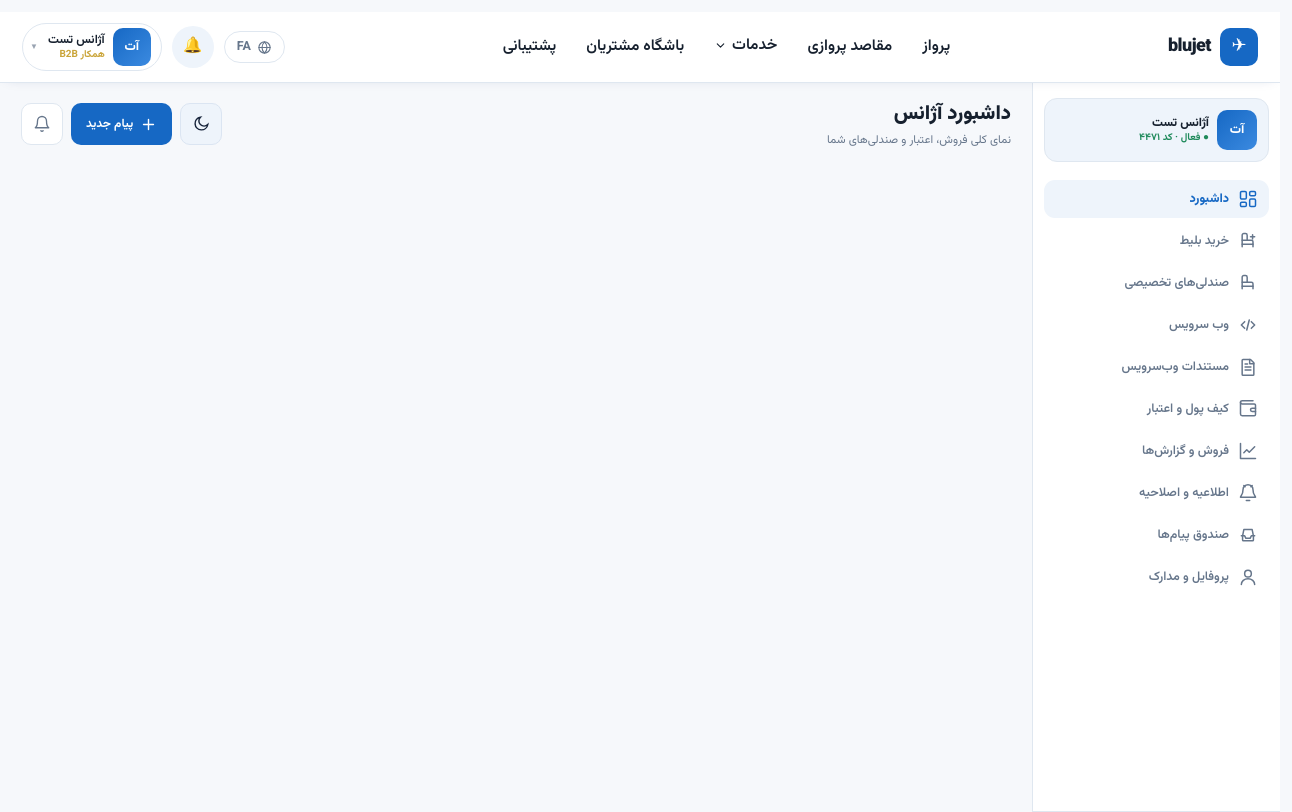
Scenario: AgencyPortalShell logout › shows the real agency identity, credit, and reference shortcuts in the profile menu
This screenshot has width=1292, height=812.
Click the element with test id "agency-user-menu-toggle" at (92, 47), box [22, 23, 162, 71]
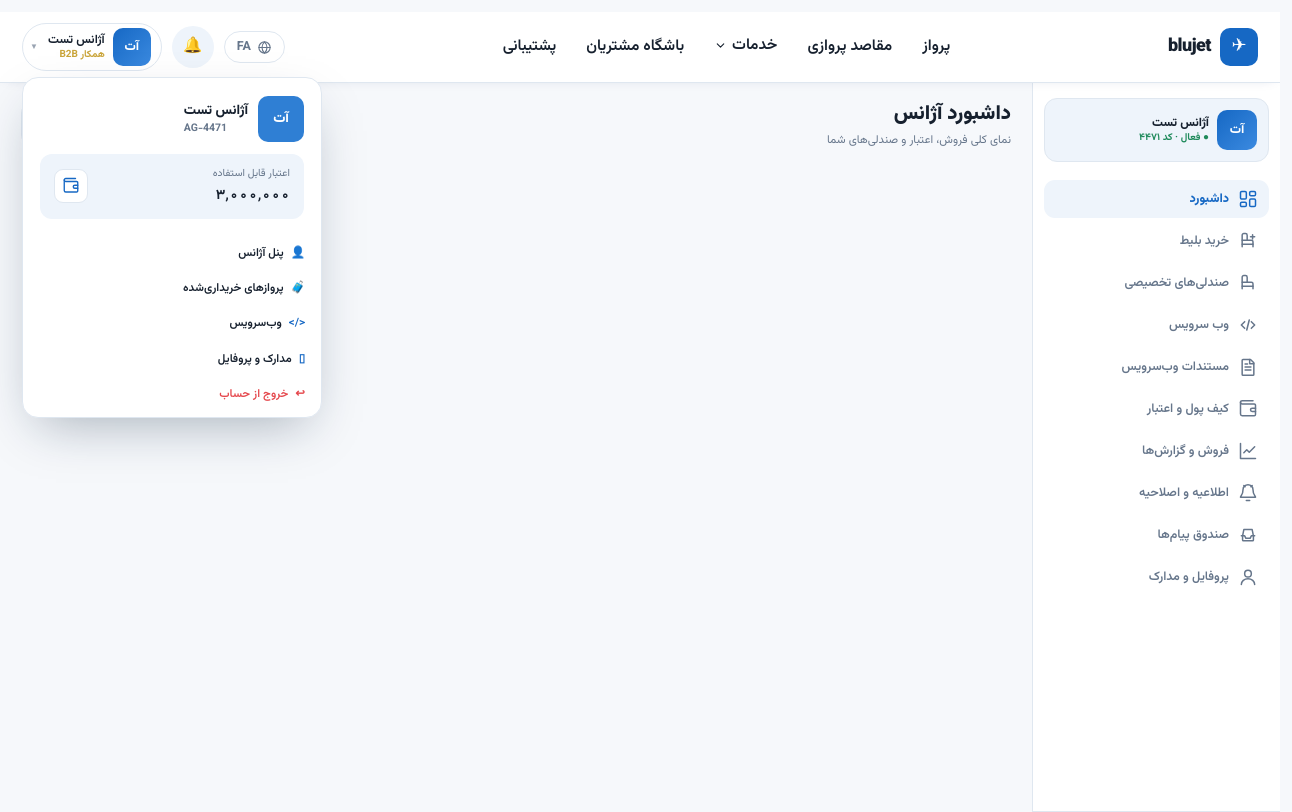
Check: the text "AG-4471" is shown, box [184, 120, 227, 137]
Check: the text "اعتبار قابل استفاده" is shown, box [213, 166, 290, 182]
Check: the link "🧳 پروازهای خریداری‌شده" is shown, box [183, 279, 305, 297]
